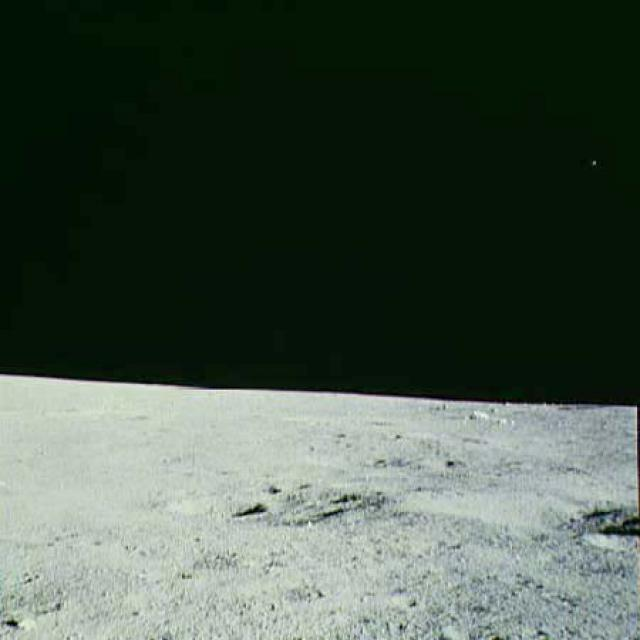crater: (406, 456, 638, 550), (161, 484, 273, 532)
